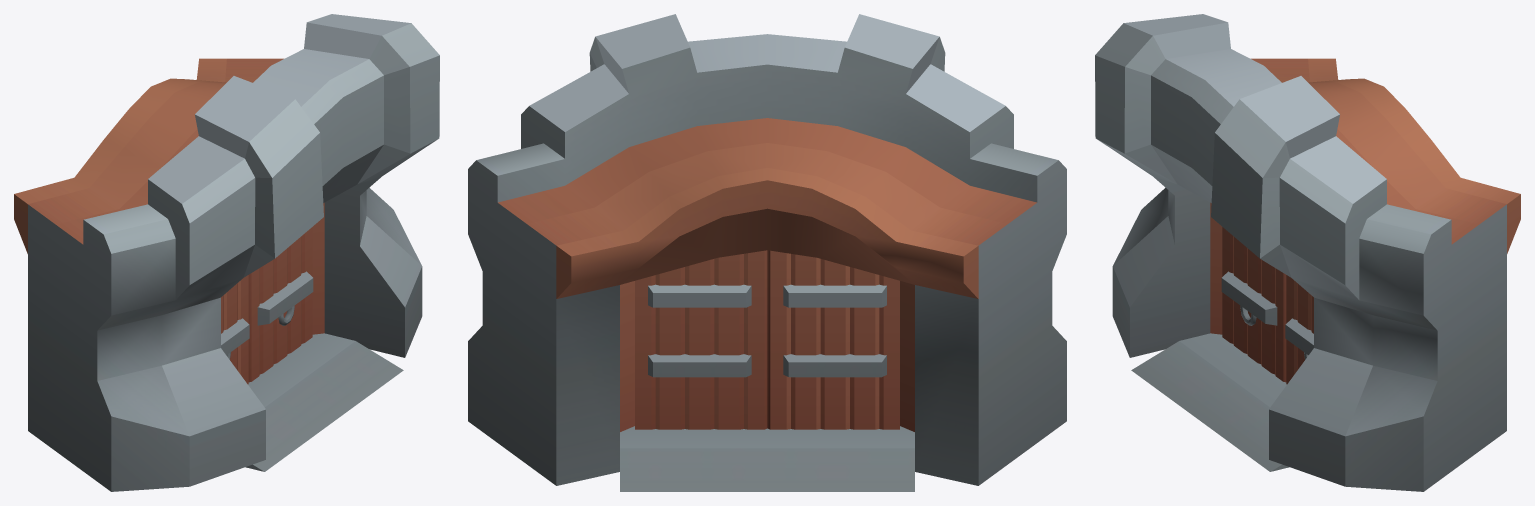
File: wall_corner_A_gate.gltf
3 renders of one model, left to right at view 1: azimuth 30°, elevation 25°; view 2: azimuth 150°, elevation 25°; view 3: azimuth 270°, elevation 25°, orthographic. The views are drawn at different scales.
Visible parts, largest first — view 1: wall_corner_A_gate, wall_corner_A_gate_door_left, wall_corner_A_gate_door_right; view 2: wall_corner_A_gate, wall_corner_A_gate_door_left, wall_corner_A_gate_door_right; view 3: wall_corner_A_gate, wall_corner_A_gate_door_right, wall_corner_A_gate_door_left.
Boxes of the visible parts, <box> form: wall_corner_A_gate: <box>14,14,439,491</box>; wall_corner_A_gate_door_left: <box>248,227,313,382</box>; wall_corner_A_gate_door_right: <box>221,275,249,384</box>; wall_corner_A_gate: <box>468,14,1066,491</box>; wall_corner_A_gate_door_left: <box>635,250,767,429</box>; wall_corner_A_gate_door_right: <box>767,250,899,429</box>; wall_corner_A_gate: <box>1095,14,1520,491</box>; wall_corner_A_gate_door_right: <box>1221,227,1286,382</box>; wall_corner_A_gate_door_left: <box>1285,275,1313,384</box>.
Size of the model in its own units: 1.76 by 1.42 by 1.53.
1 material, 1 textured.
